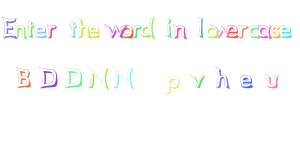B: (12, 66, 33, 91)
D: (63, 62, 83, 92), (38, 64, 60, 90)
E: (1, 12, 15, 42)
N: (87, 62, 111, 93), (111, 62, 136, 90)
a: (258, 23, 272, 41)
c: (248, 23, 261, 42)
d: (141, 16, 158, 41)
e: (236, 70, 258, 93), (86, 19, 102, 42), (279, 23, 294, 41), (227, 21, 239, 43), (36, 22, 47, 43)
h: (211, 58, 235, 91), (78, 14, 90, 41)
i: (164, 17, 174, 43)
l: (196, 15, 207, 41)
n: (174, 23, 190, 43), (15, 21, 27, 42)
o: (205, 21, 220, 42), (121, 23, 134, 41)
p: (159, 70, 184, 98)
r: (45, 22, 60, 43), (237, 23, 249, 42), (132, 23, 142, 41)
s: (271, 23, 282, 43)
t: (68, 16, 77, 43), (26, 18, 36, 41)
u: (261, 68, 286, 93)
v: (188, 68, 211, 90)
w: (104, 21, 127, 44), (215, 22, 231, 40)
